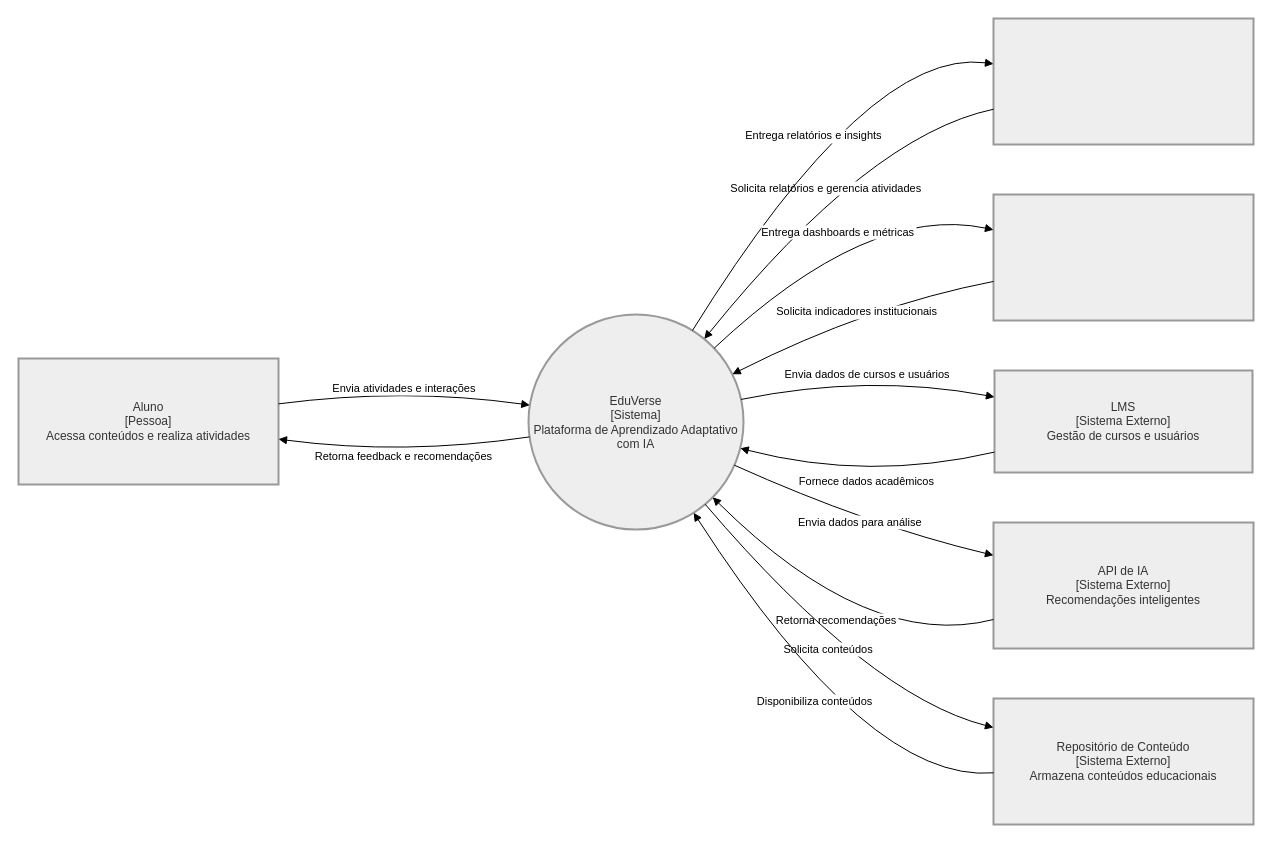
Some shapes in this 1271 by 842 pixel diagram are drawn without their labels. Each missing label, with the centre of its shape:
"Gestor [Pessoa] Visualiza indicadores e relatórios" goes at (1123,257).
"Professor [Pessoa] Acompanha desempenho e cria atividades" goes at (1123,81).
